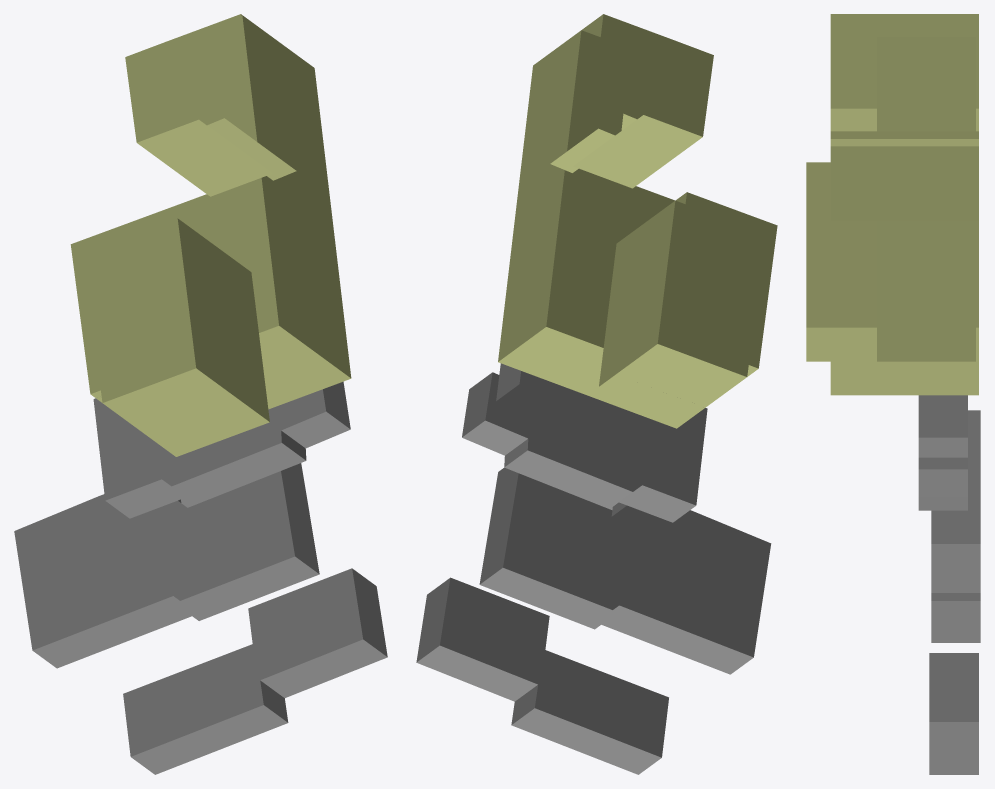
The picture shows the model from 3 angles, left to right: view 1: azimuth 30°, elevation 25°; view 2: azimuth 150°, elevation 25°; view 3: azimuth 270°, elevation 25°; orthographic projection. The views are drawn at different scales.
Visible parts, largest first — view 1: 0_1_2_0_3_1_1_3_2; view 2: 0_1_2_0_3_1_1_3_2; view 3: 0_1_2_0_3_1_1_3_2.
Boxes of the visible parts, <box> form: 0_1_2_0_3_1_1_3_2: <box>14,14,387,774</box>; 0_1_2_0_3_1_1_3_2: <box>416,14,777,774</box>; 0_1_2_0_3_1_1_3_2: <box>806,14,980,774</box>.
Bounding box in the file's own units: 24.52 × 48.21 × 10.59.
